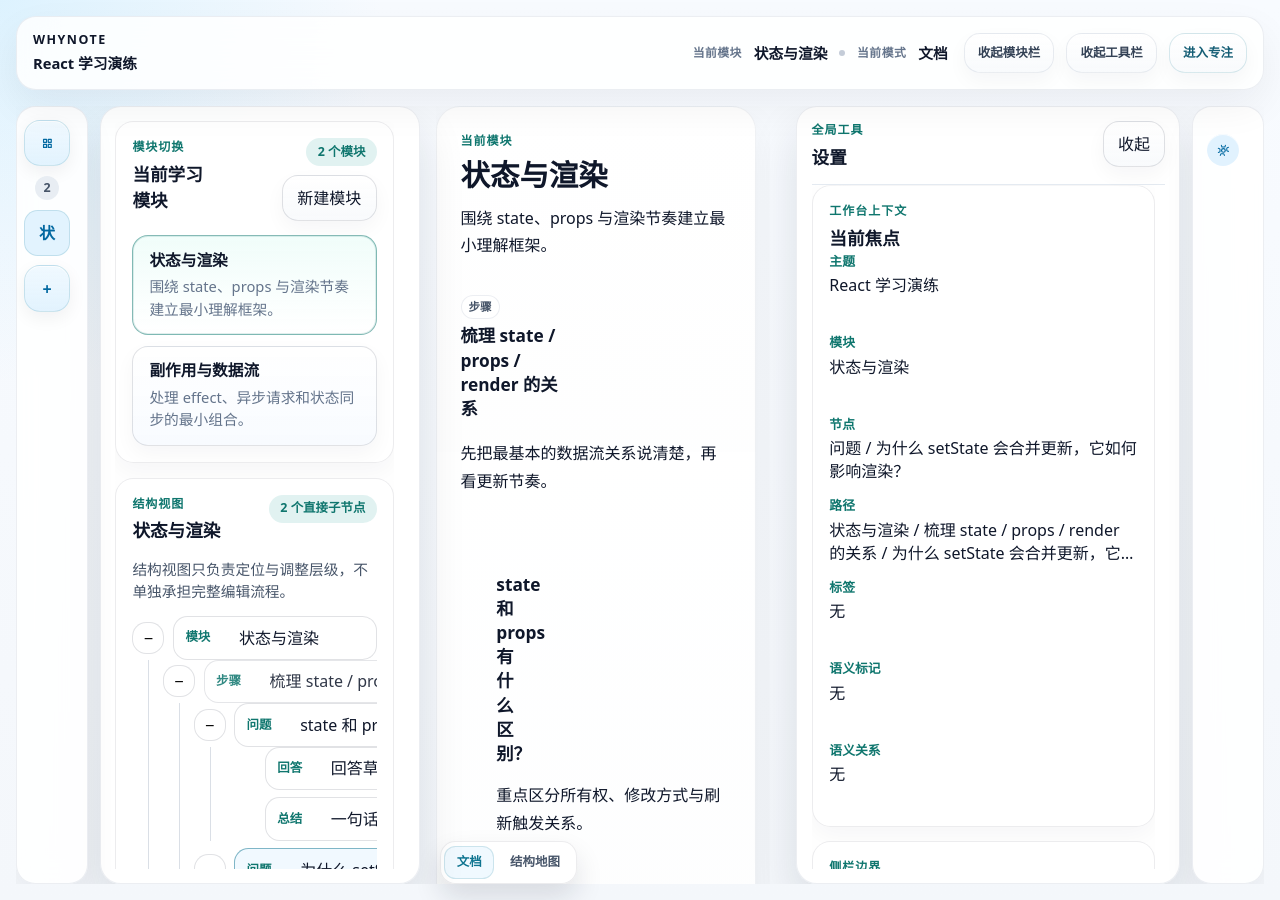
Test: collapses and expands the structure tree
What coordinates should you click on to do the following:
click the button named "折叠 梳理 state / props / render 的关系"
I would click on:
 (179, 681)
Its box is [163,665,195,697].
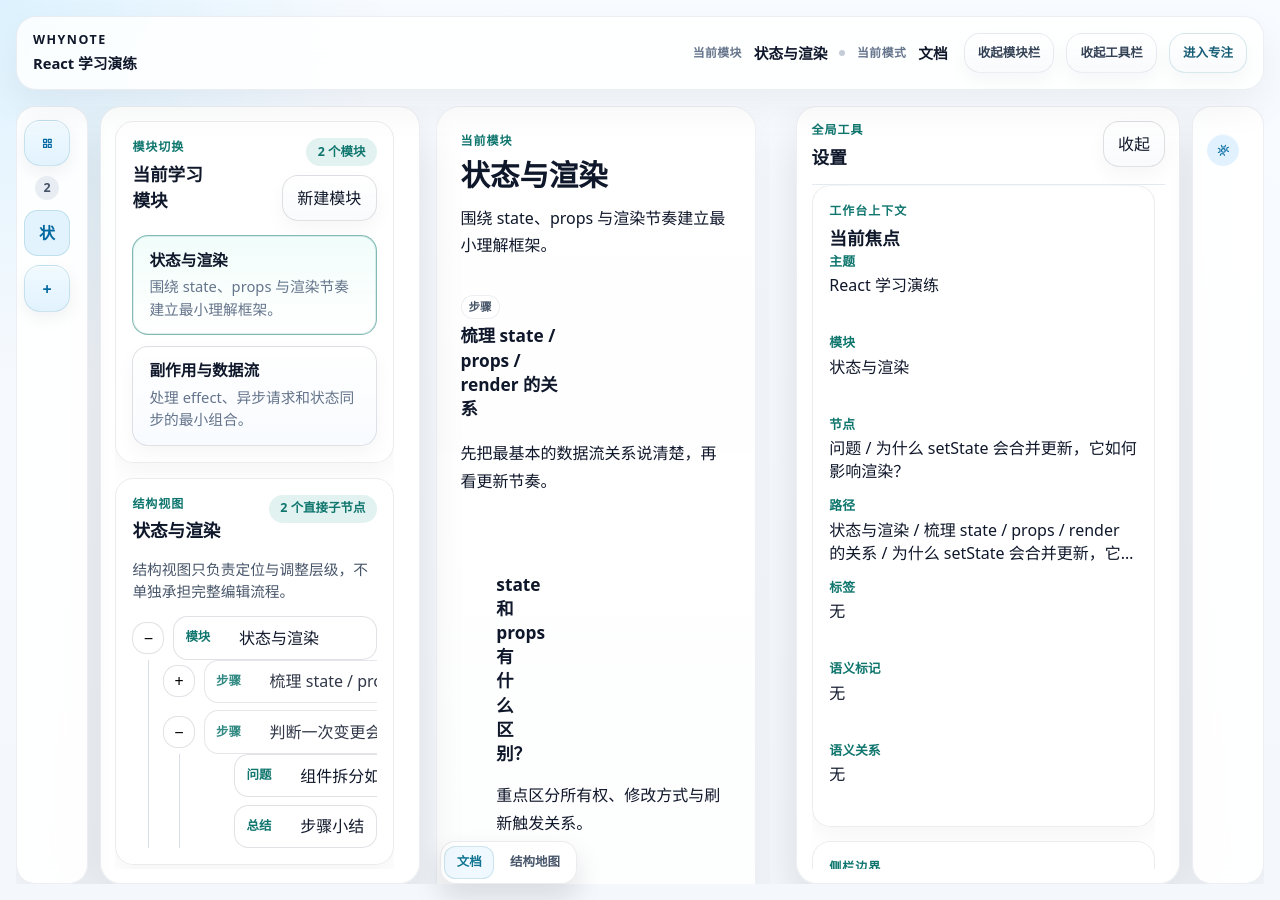
What coordinates should you click on to do the following:
click the button named "展开 梳理 state / props / render 的关系"
I would click on:
 (179, 681)
Its box is [163,665,195,697].
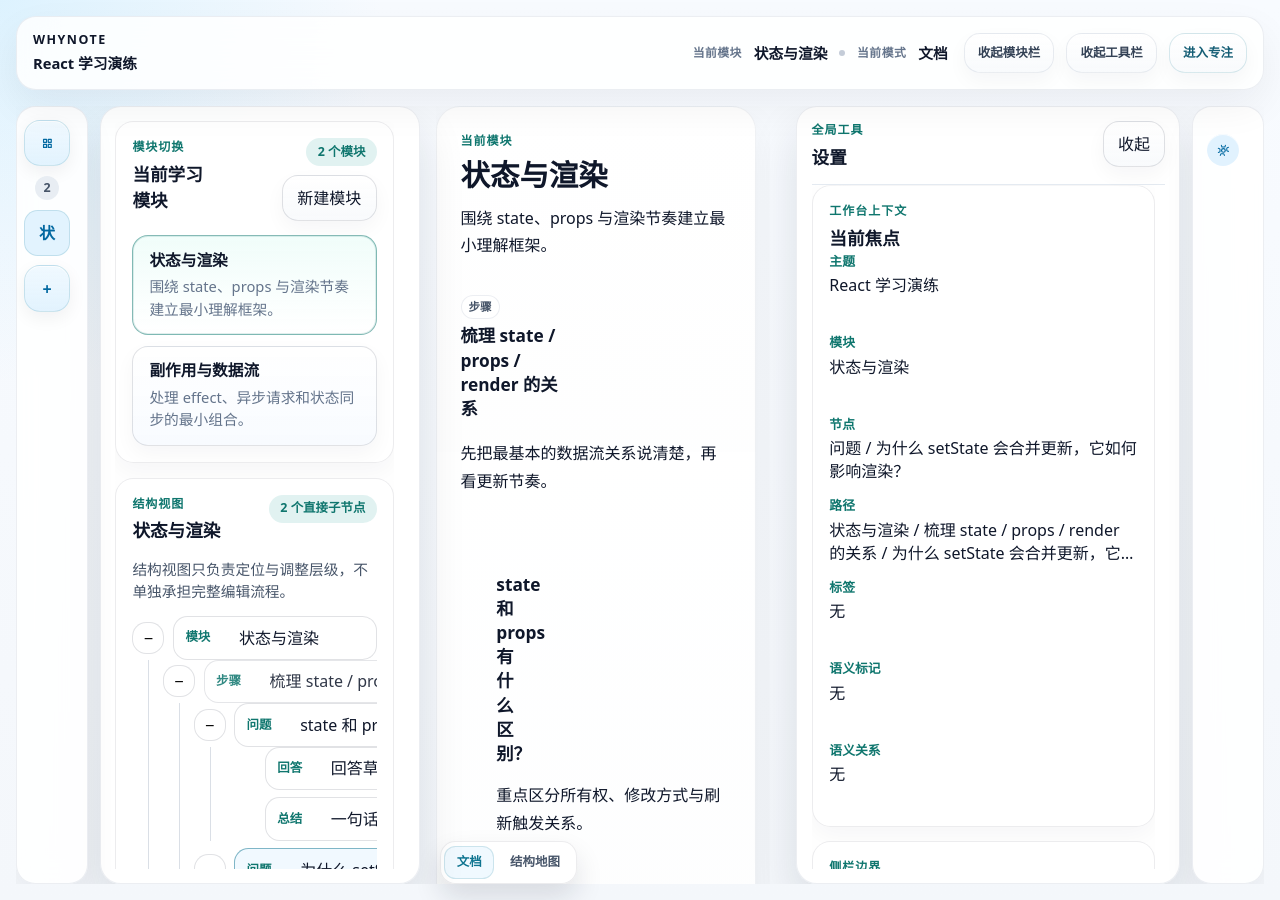
Now the button named "问题state 和 props 有什么区别？" is shown, box [234,703,377,747]
